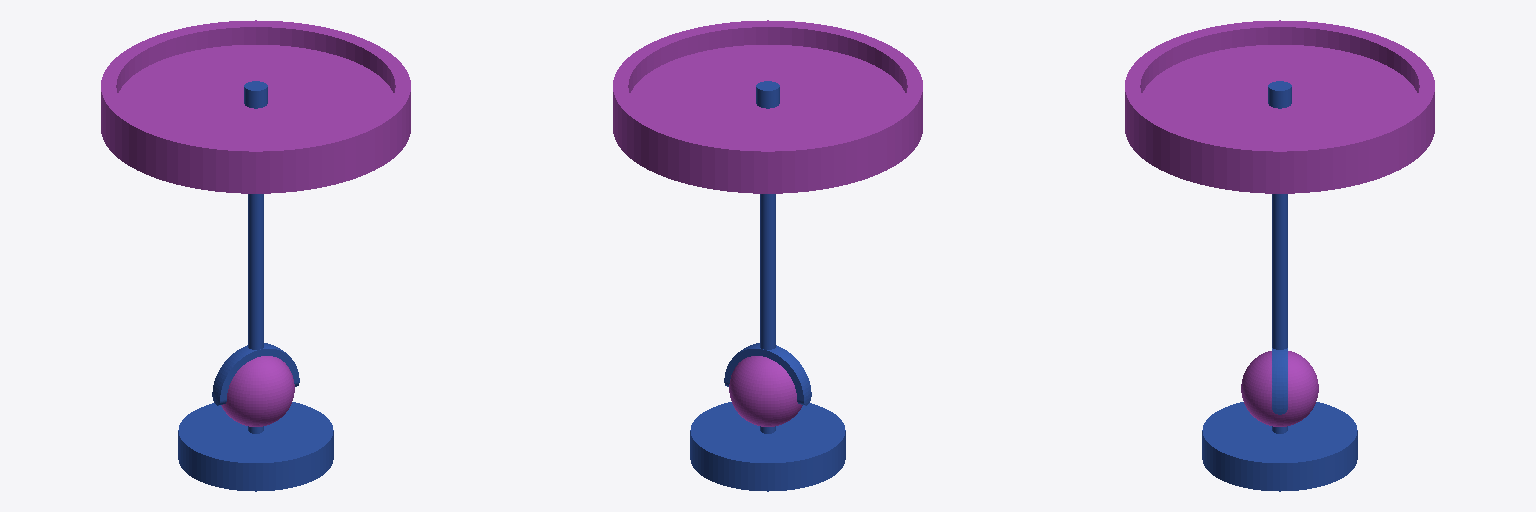
The robot description file, URDF, robot "gyro":
<?xml version="1.0" ?>
<!-- Generated using onshape-to-robot -->
<!-- Onshape document_id: d9033effb682bcc1f574e56d / workspace_id: 6d5aea9da7909d1356cfc92f -->
<robot name="gyro">
  <!-- Link base -->
  <link name="base">
    <inertial>
      <origin xyz="-7.24788e-18 5.97777e-18 -0.197813" rpy="0 0 0"/>
      <mass value="1.99622e-05"/>
      <inertia ixx="3.29703e-07" ixy="0" ixz="0" iyy="3.29703e-07" iyz="0" izz="6.13693e-07"/>
    </inertial>
    <!-- Part base -->
    <visual>
      <origin xyz="0 0 0" rpy="0 -0 0"/>
      <geometry>
        <mesh filename="package://assets/base.stl"/>
      </geometry>
      <material name="base_material">
        <color rgba="0.231373 0.380392 0.705882 1"/>
      </material>
    </visual>
    <collision>
      <origin xyz="0 0 0" rpy="0 -0 0"/>
      <geometry>
        <mesh filename="package://assets/base.stl"/>
      </geometry>
    </collision>
  </link>
  <!-- Link link0 -->
  <link name="link0">
    <inertial>
      <origin xyz="7.47112e-10 -2.75698e-08 0.001885" rpy="0 0 0"/>
      <mass value="7.81231e-06"/>
      <inertia ixx="4.97901e-08" ixy="0" ixz="5.86124e-16" iyy="4.86328e-08" iyz="-3.45582e-16" izz="4.98632e-08"/>
    </inertial>
    <!-- Part link0 -->
    <visual>
      <origin xyz="0 0 0" rpy="0 -0 0"/>
      <geometry>
        <mesh filename="package://assets/link0.stl"/>
      </geometry>
      <material name="link0_material">
        <color rgba="0.682353 0.333333 0.737255 1"/>
      </material>
    </visual>
    <collision>
      <origin xyz="0 0 0" rpy="0 -0 0"/>
      <geometry>
        <mesh filename="package://assets/link0.stl"/>
      </geometry>
    </collision>
  </link>
  <!-- Link link1 -->
  <link name="link1">
    <inertial>
      <origin xyz="-4.0726e-18 0.523056 -5.0042e-16" rpy="0 0 0"/>
      <mass value="2.79873e-06"/>
      <inertia ixx="3.64846e-07" ixy="7.31261e-29" ixz="-2.963e-13" iyy="8.2054e-09" iyz="-8.62753e-23" izz="3.57785e-07"/>
    </inertial>
    <!-- Part link1 -->
    <visual>
      <origin xyz="0 0 0" rpy="-1.5708 -1.5708 0"/>
      <geometry>
        <mesh filename="package://assets/link1.stl"/>
      </geometry>
      <material name="link1_material">
        <color rgba="0.231373 0.380392 0.705882 1"/>
      </material>
    </visual>
    <collision>
      <origin xyz="0 0 0" rpy="-1.5708 -1.5708 0"/>
      <geometry>
        <mesh filename="package://assets/link1.stl"/>
      </geometry>
    </collision>
  </link>
  <!-- Link link2 -->
  <link name="link2">
    <inertial>
      <origin xyz="-3.34838e-17 -2.77862e-17 -1.11022e-16" rpy="0 0 0"/>
      <mass value="433.975"/>
      <inertia ixx="38.3609" ixy="-2.84811e-14" ixz="-7.71217e-16" iyy="38.3609" iyz="-1.57499e-15" izz="75.7505"/>
    </inertial>
    <!-- Part link2 -->
    <visual>
      <origin xyz="0 0 -1" rpy="0 -0 0"/>
      <geometry>
        <mesh filename="package://assets/link2.stl"/>
      </geometry>
      <material name="link2_material">
        <color rgba="0.682353 0.333333 0.737255 1"/>
      </material>
    </visual>
    <collision>
      <origin xyz="0 0 -1" rpy="0 -0 0"/>
      <geometry>
        <mesh filename="package://assets/link2.stl"/>
      </geometry>
    </collision>
  </link>
  <!-- Joint from link1 to link2 -->
  <joint name="joint2" type="revolute">
    <origin xyz="3.36742e-32 1 2.46798e-16" rpy="-1.5708 -1.5708 0"/>
    <parent link="link1"/>
    <child link="link2"/>
    <axis xyz="0 0 1"/>
    <limit effort="10" velocity="10" lower="-3.141592653589793" upper="3.141592653589793"/>
  </joint>
  <!-- Joint from link0 to link1 -->
  <joint name="joint1" type="revolute">
    <origin xyz="0 0 0" rpy="1.5708 -3.36742e-32 1.5708"/>
    <parent link="link0"/>
    <child link="link1"/>
    <axis xyz="0 0 1"/>
    <limit effort="10" velocity="10" lower="-3.141592653589793" upper="3.141592653589793"/>
  </joint>
  <!-- Joint from base to link0 -->
  <joint name="joint0" type="revolute">
    <origin xyz="0 0 0" rpy="0 -0 0"/>
    <parent link="base"/>
    <child link="link0"/>
    <axis xyz="0 0 1"/>
    <limit effort="10" velocity="10" lower="-3.141592653589793" upper="3.141592653589793"/>
  </joint>
</robot>

--- Facts derived from the render (not from the file) ---
3 views of the same robot in one strip: view 1: azimuth 30°, elevation 25°; view 2: azimuth 150°, elevation 25°; view 3: azimuth 270°, elevation 25° (orthographic).
Robot: gyro — 4 links, 3 joints (3 revolute); root link base; default pose: every joint at zero.
Links seen in each view (by area): view 1: link2, base, link1, link0; view 2: link2, base, link1, link0; view 3: link2, base, link1, link0.
Link boxes in pixels (x1,y1,x2,y2): link2: (101, 20, 410, 193); base: (178, 402, 333, 491); link1: (212, 81, 299, 405); link0: (221, 356, 294, 426); link2: (613, 20, 922, 193); base: (690, 402, 845, 491); link1: (724, 81, 811, 405); link0: (729, 356, 802, 426); link2: (1125, 20, 1434, 193); base: (1202, 402, 1357, 491); link1: (1268, 81, 1291, 414); link0: (1241, 351, 1318, 426).
Size in the robot's own frame: 1 by 1 by 1.32 metres.
Meshes: 4 distinct files referenced, 4 mesh visuals loaded (4 binary STL).
